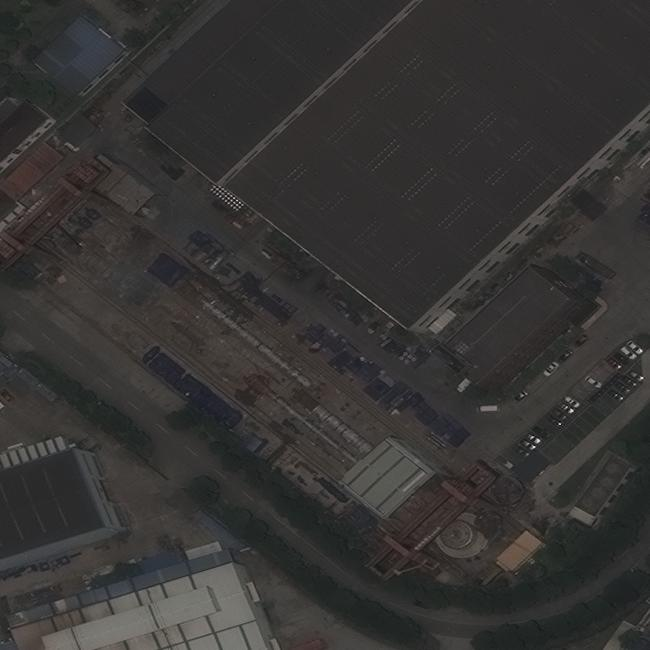parking lot: (505, 339, 643, 477)
